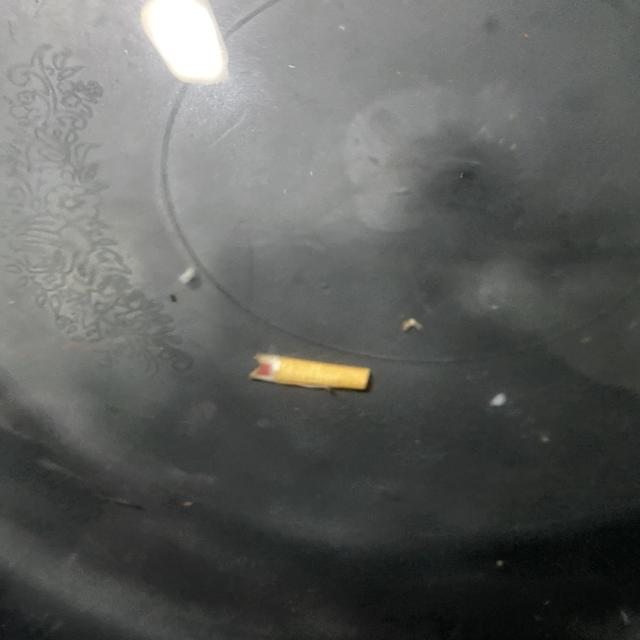Cigarette Filter: (238, 337, 383, 408)
